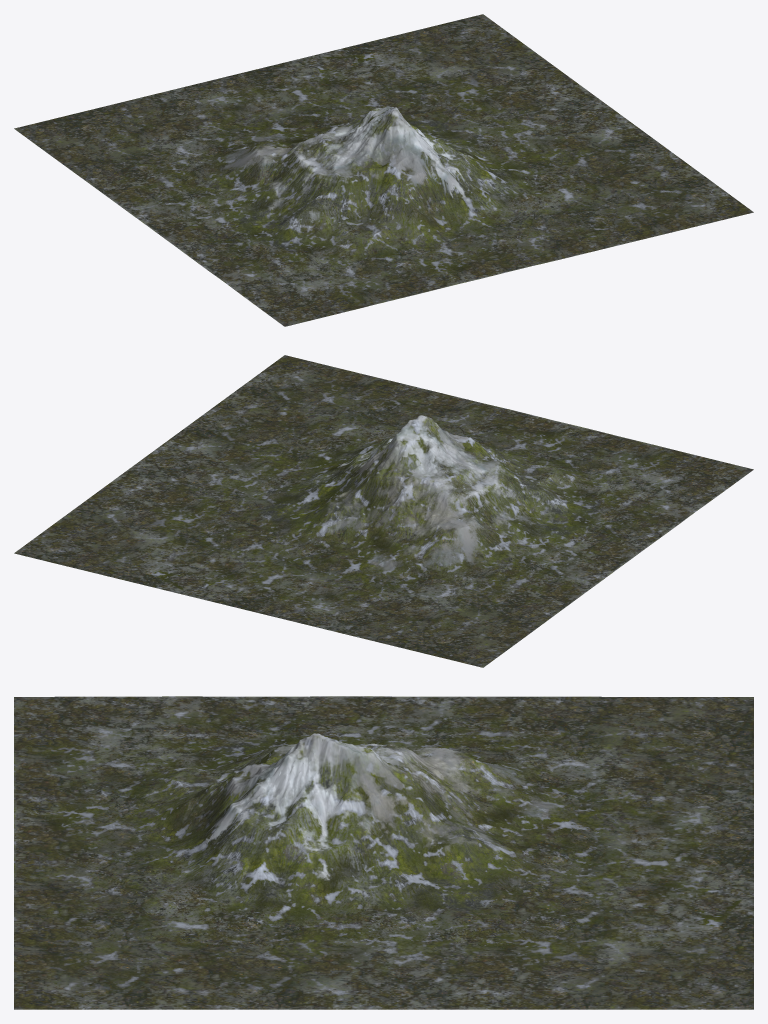
File: 山地地形.glb
3 views of the same model, one above another, from view 1: azimuth 30°, elevation 25°; view 2: azimuth 150°, elevation 25°; view 3: azimuth 270°, elevation 25° (orthographic). The views are drawn at different scales.
Visible parts, largest first — view 1: Object_2; view 2: Object_2; view 3: Object_2.
Boxes of the visible parts, x1,y1,x2,y2 form: Object_2: (14, 14, 753, 326); Object_2: (14, 355, 753, 667); Object_2: (14, 696, 753, 1009).
Size of the model in its own units: 18.82 by 3.09 by 18.82.
1 material, 1 textured.
